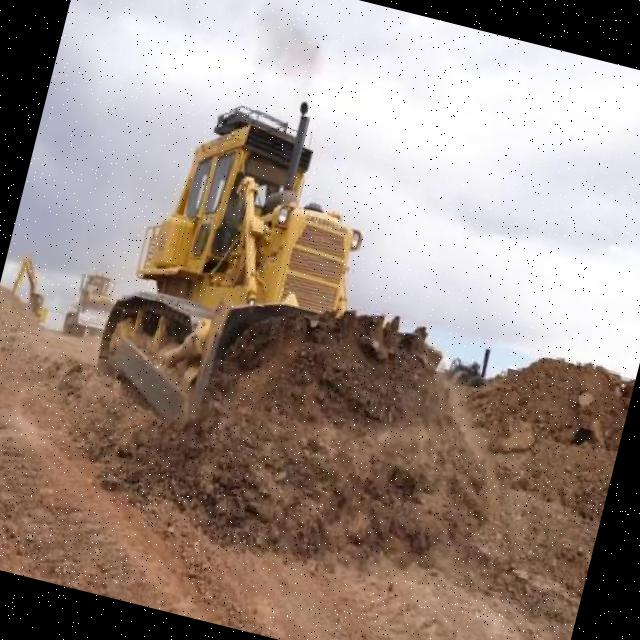Bulldozer: (79, 64, 495, 498)
Excavator: (2, 252, 58, 326)
